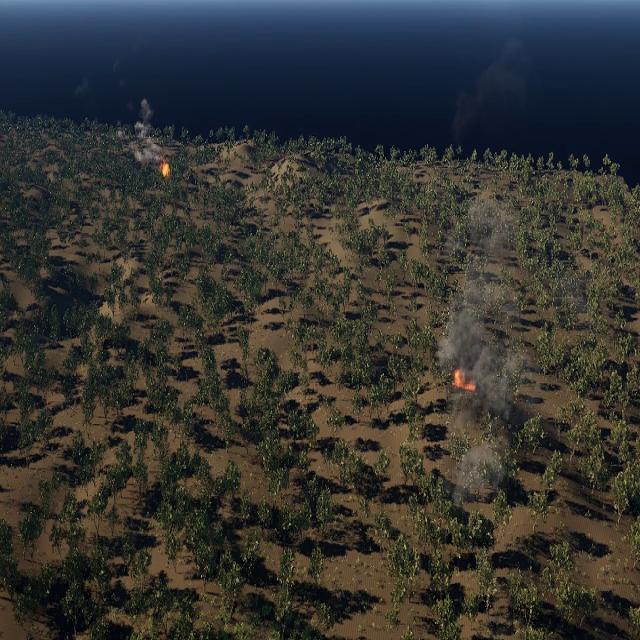fire: (454, 370, 474, 391), (163, 164, 171, 178)
smoke: (435, 198, 534, 510), (452, 33, 536, 143), (135, 96, 161, 166)
